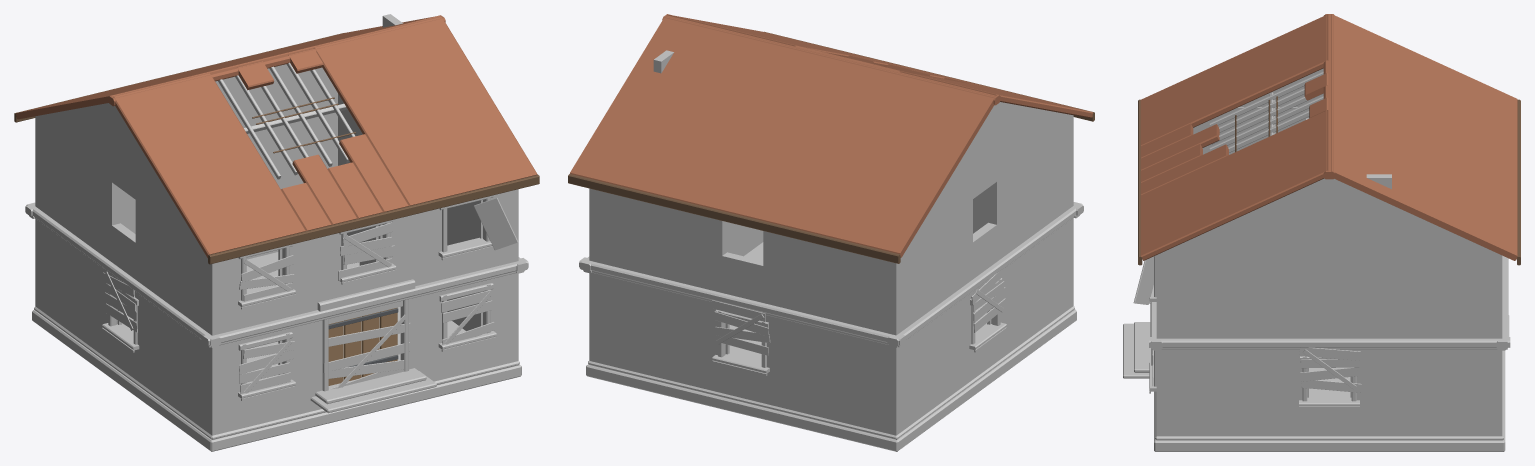
The model's file is house_derelict.glb.
3 renders of one model, left to right at view 1: azimuth 30°, elevation 25°; view 2: azimuth 150°, elevation 25°; view 3: azimuth 270°, elevation 25°, orthographic. The views are drawn at different scales.
Visible parts, largest first — view 1: house_derelict; view 2: house_derelict; view 3: house_derelict.
Part boxes in pixels (x1,y1,x2,y2): house_derelict: (14, 14, 539, 451); house_derelict: (568, 14, 1094, 451); house_derelict: (1123, 14, 1520, 451).
Size of the model in its own units: 12.88 by 10.87 by 13.7.
